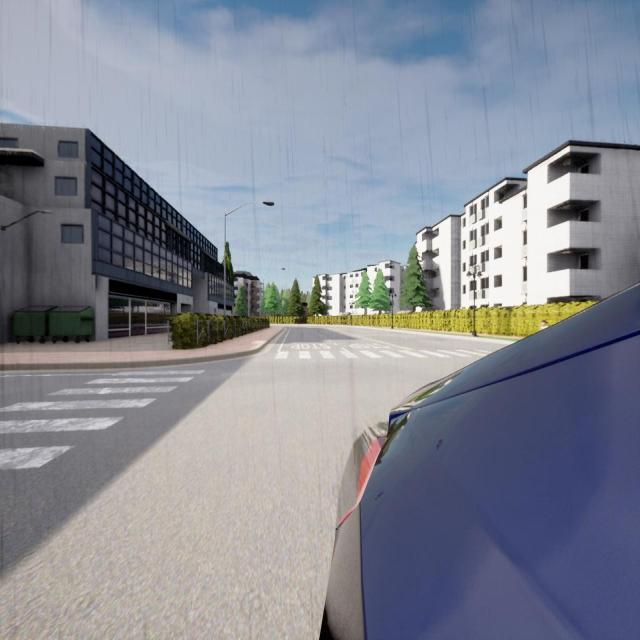Pedestrian: (540, 320, 548, 330)
Vehicle: (326, 283, 640, 638)
